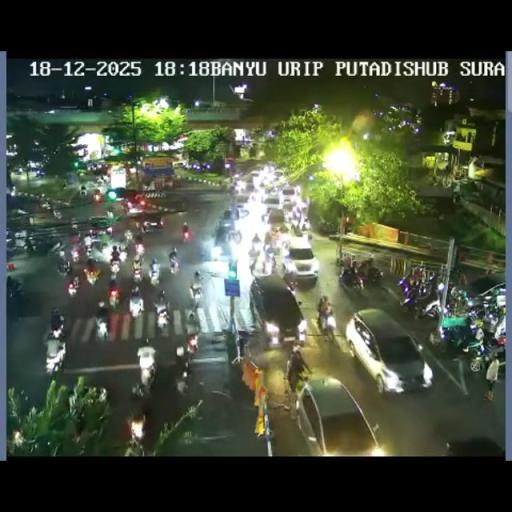Car: (348, 306, 434, 392), (293, 376, 382, 454), (248, 274, 306, 350), (284, 236, 318, 282), (104, 186, 129, 204), (262, 194, 282, 213), (234, 185, 253, 205), (280, 186, 297, 204), (234, 205, 249, 219), (250, 170, 262, 183), (272, 170, 284, 182)
Motorcycle: (80, 271, 178, 334), (58, 228, 116, 274), (398, 270, 440, 314), (464, 330, 503, 374), (286, 353, 310, 392), (125, 414, 146, 454), (132, 363, 155, 398), (44, 338, 66, 374), (339, 265, 365, 293), (317, 306, 337, 340), (174, 361, 192, 395), (449, 285, 470, 308), (154, 300, 170, 330), (465, 302, 488, 322), (491, 308, 506, 338), (364, 264, 384, 286), (46, 320, 66, 342), (6, 275, 24, 299), (83, 264, 101, 286), (450, 267, 468, 289), (236, 328, 249, 358), (265, 321, 280, 346), (129, 290, 143, 316), (210, 328, 229, 346), (295, 318, 308, 344), (262, 250, 276, 274), (185, 310, 199, 334), (226, 224, 242, 245), (95, 317, 109, 340), (56, 258, 72, 276), (67, 276, 80, 297), (47, 239, 63, 255), (108, 288, 120, 309), (186, 334, 198, 355), (6, 235, 18, 256), (70, 240, 82, 260), (149, 264, 160, 284), (248, 252, 258, 273), (190, 284, 202, 301), (132, 265, 143, 283), (96, 386, 107, 404), (250, 238, 262, 254), (285, 278, 297, 294), (210, 245, 222, 261), (168, 257, 179, 274), (98, 236, 110, 251), (280, 242, 290, 260), (292, 205, 302, 223), (25, 237, 35, 254), (117, 248, 127, 264), (122, 198, 134, 211), (109, 258, 120, 272), (134, 242, 145, 256), (138, 219, 148, 234), (261, 209, 271, 224), (342, 253, 352, 268), (264, 230, 273, 246), (84, 242, 94, 256), (96, 174, 110, 184), (154, 214, 164, 228), (90, 190, 101, 202), (104, 224, 114, 237), (182, 226, 190, 242), (124, 230, 134, 242), (52, 207, 62, 219), (89, 227, 98, 240), (40, 200, 51, 210), (301, 221, 309, 233), (223, 210, 232, 220), (306, 231, 313, 242), (106, 209, 114, 218), (485, 268, 493, 276), (194, 270, 200, 280), (80, 186, 86, 196)
